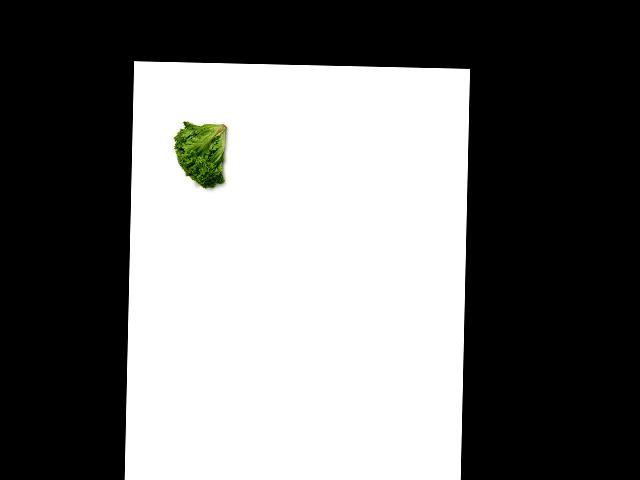lettuce: (169, 118, 232, 192)
